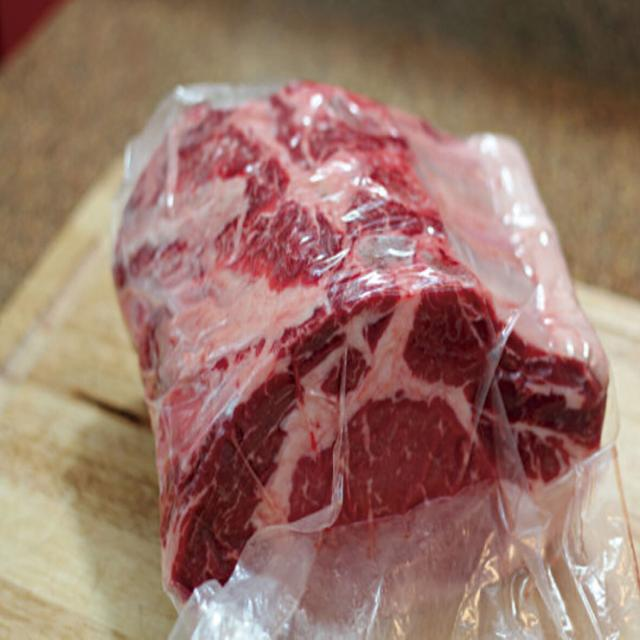carne de cerdo: (101, 58, 612, 594)
